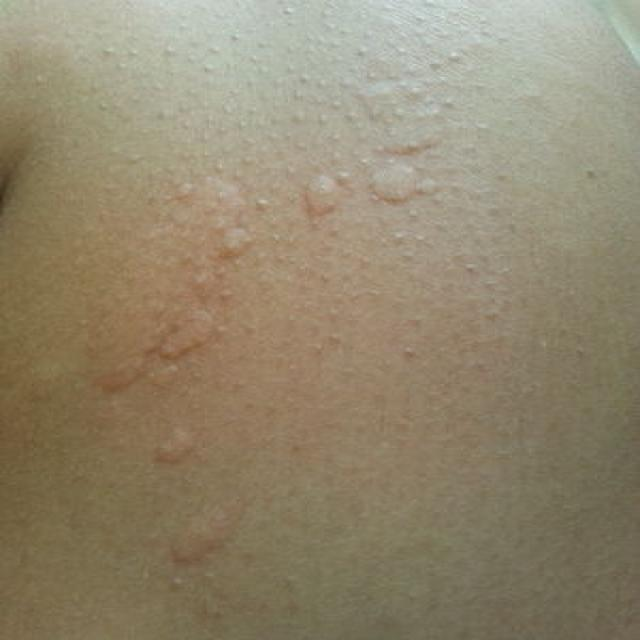hives: (81, 25, 525, 607)
